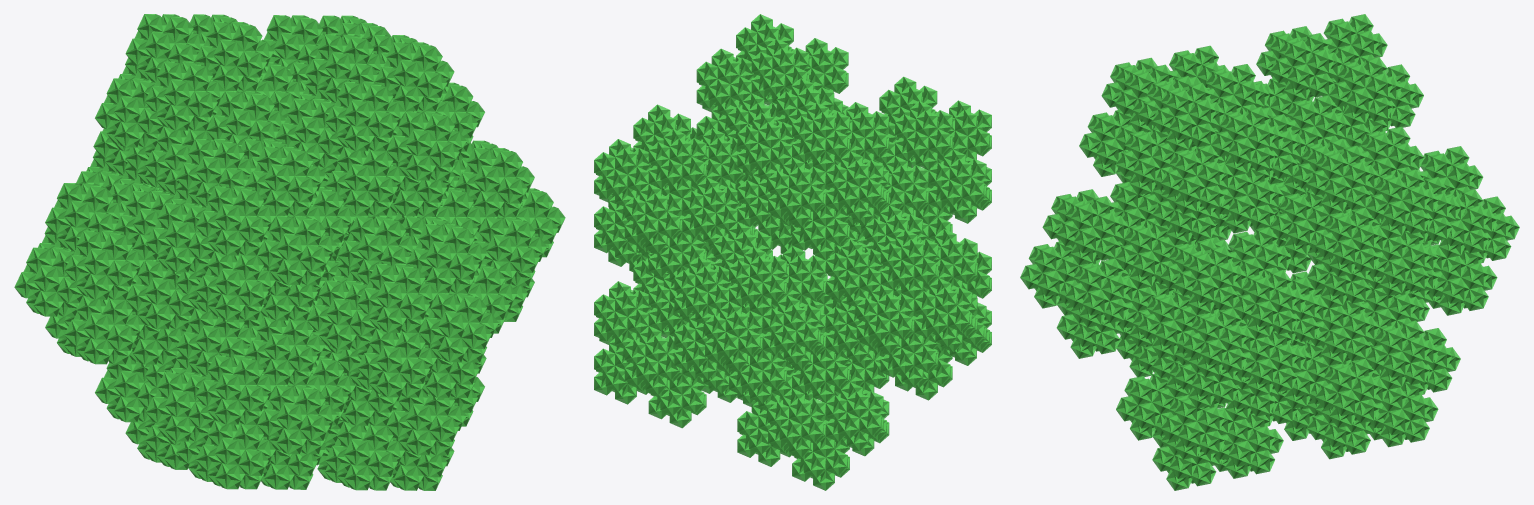
Rendered from fractalgreatdodecahedron3.glb.
3 renders of one model, left to right at view 1: azimuth 30°, elevation 25°; view 2: azimuth 150°, elevation 25°; view 3: azimuth 270°, elevation 25°, orthographic. The views are drawn at different scales.
Size of the model in its own units: 12.1 by 10.59 by 12.1.
